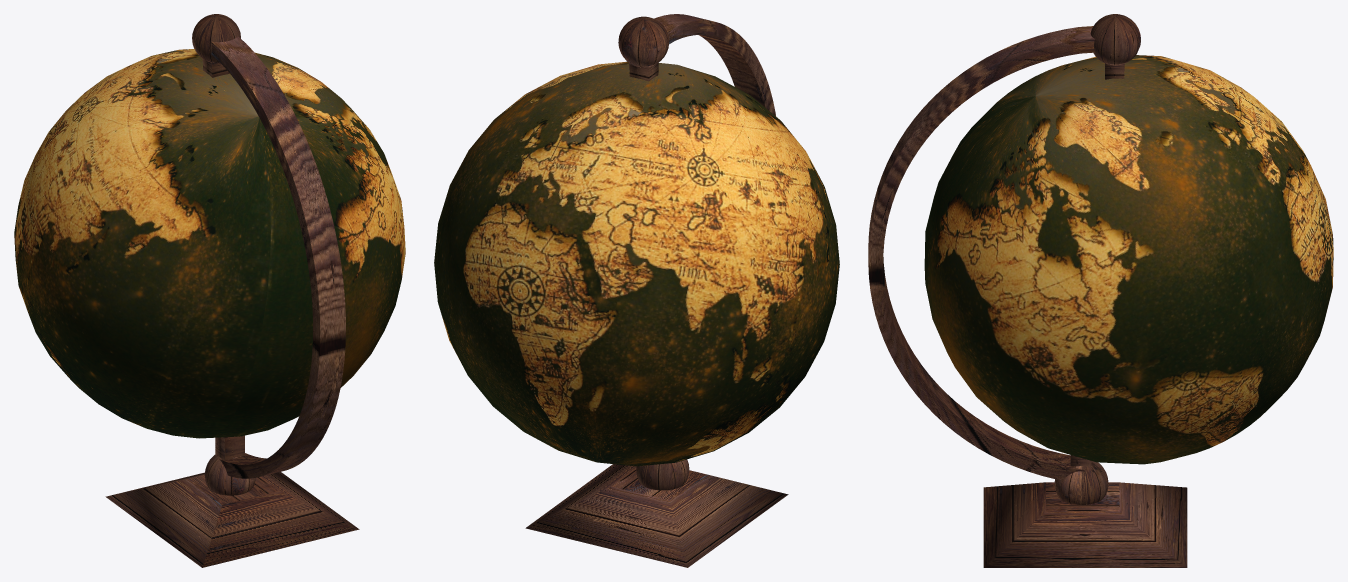
Rendered from antique_globe (2).glb.
3 renders of one model, left to right at view 1: azimuth 30°, elevation 25°; view 2: azimuth 150°, elevation 25°; view 3: azimuth 270°, elevation 25°, orthographic. The views are drawn at different scales.
Parts seen in each view (by area): view 1: Globe, Globe_Stand_part-1, Globe_Stand_part-2; view 2: Globe, Globe_Stand_part-1, Globe_Stand_part-2; view 3: Globe, Globe_Stand_part-1, Globe_Stand_part-2.
Boxes of the visible parts, x1,y1,x2,y2 form: Globe: [14, 49, 405, 438]; Globe_Stand_part-1: [105, 14, 359, 567]; Globe_Stand_part-2: [211, 36, 345, 478]; Globe: [434, 61, 839, 466]; Globe_Stand_part-1: [525, 16, 788, 567]; Globe_Stand_part-2: [654, 14, 775, 115]; Globe: [924, 55, 1333, 464]; Globe_Stand_part-1: [983, 14, 1187, 567]; Globe_Stand_part-2: [868, 26, 1095, 480].
Size of the model in its own units: 0.3961 by 0.5452 by 0.4504.
Materials: 3 (3 with a texture image).
